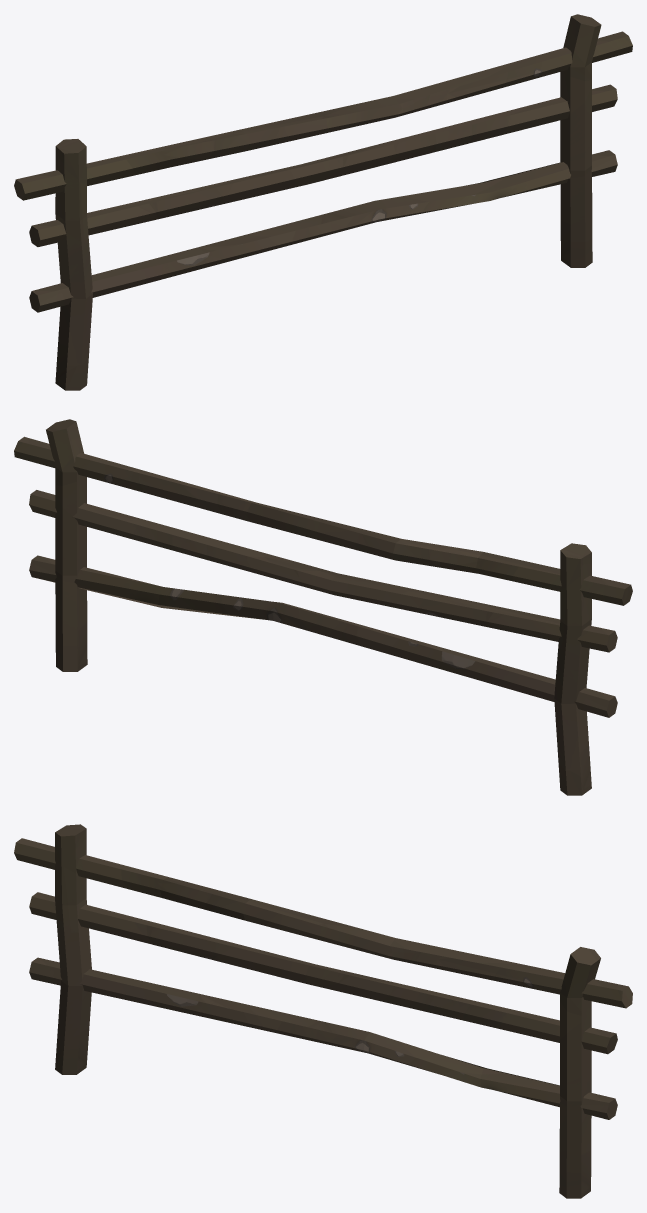
3 renders of one model, top to bottom at view 1: azimuth 30°, elevation 25°; view 2: azimuth 150°, elevation 25°; view 3: azimuth 330°, elevation 25°, orthographic.
Visible parts, largest first — view 1: SM_Prop_Fence_02; view 2: SM_Prop_Fence_02; view 3: SM_Prop_Fence_02.
Part boxes in pixels (x1,y1,x2,y2): SM_Prop_Fence_02: (14, 14, 632, 390); SM_Prop_Fence_02: (14, 419, 632, 795); SM_Prop_Fence_02: (14, 824, 632, 1198).
Size of the model in its own units: 3.02 by 1.14 by 0.1536.
Materials: 1 (1 with a texture image).
